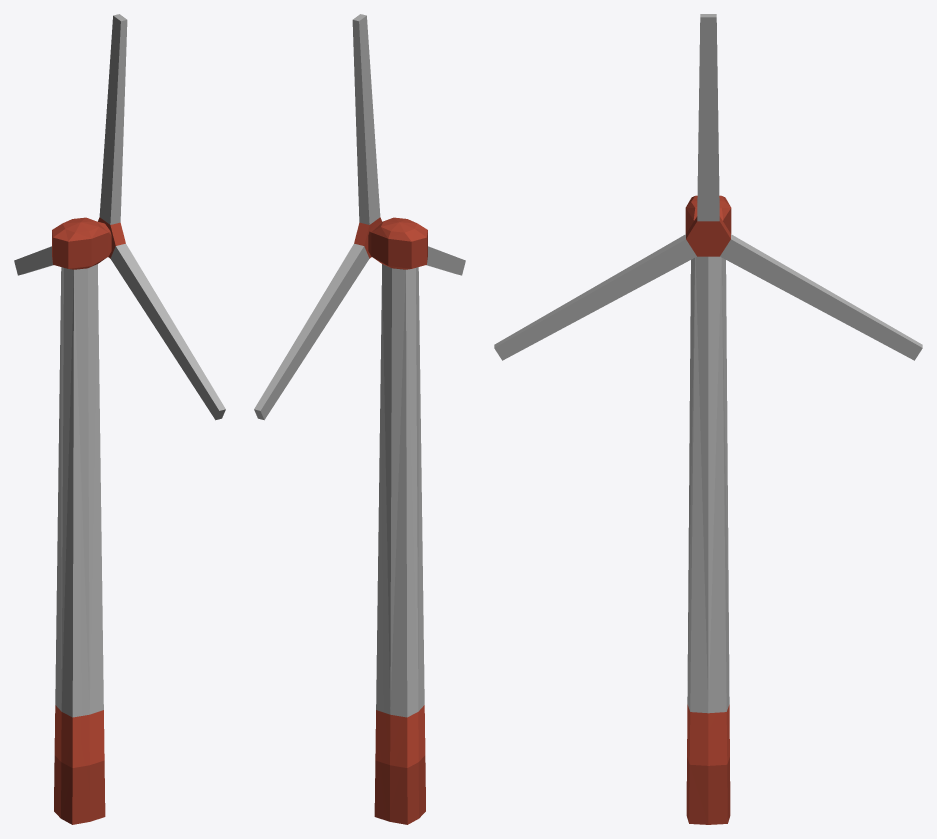
Rendered from Windmill_Red.fbx.
3 renders of one model, left to right at view 1: azimuth 30°, elevation 25°; view 2: azimuth 150°, elevation 25°; view 3: azimuth 270°, elevation 25°, orthographic. The views are drawn at different scales.
Visible parts, largest first — view 1: WindTurbine_Base_Red, WindTurbine_Blade_Red; view 2: WindTurbine_Base_Red, WindTurbine_Blade_Red; view 3: WindTurbine_Base_Red, WindTurbine_Blade_Red.
Boxes of the visible parts, x1=… form: WindTurbine_Base_Red: x1=52, y1=217, x2=111, y2=824; WindTurbine_Blade_Red: x1=14, y1=14, x2=225, y2=420; WindTurbine_Base_Red: x1=368, y1=217, x2=427, y2=824; WindTurbine_Blade_Red: x1=254, y1=14, x2=465, y2=420; WindTurbine_Base_Red: x1=685, y1=195, x2=731, y2=824; WindTurbine_Blade_Red: x1=494, y1=14, x2=922, y2=360.
Size of the model in its own units: 214 by 2290 by 1084.
